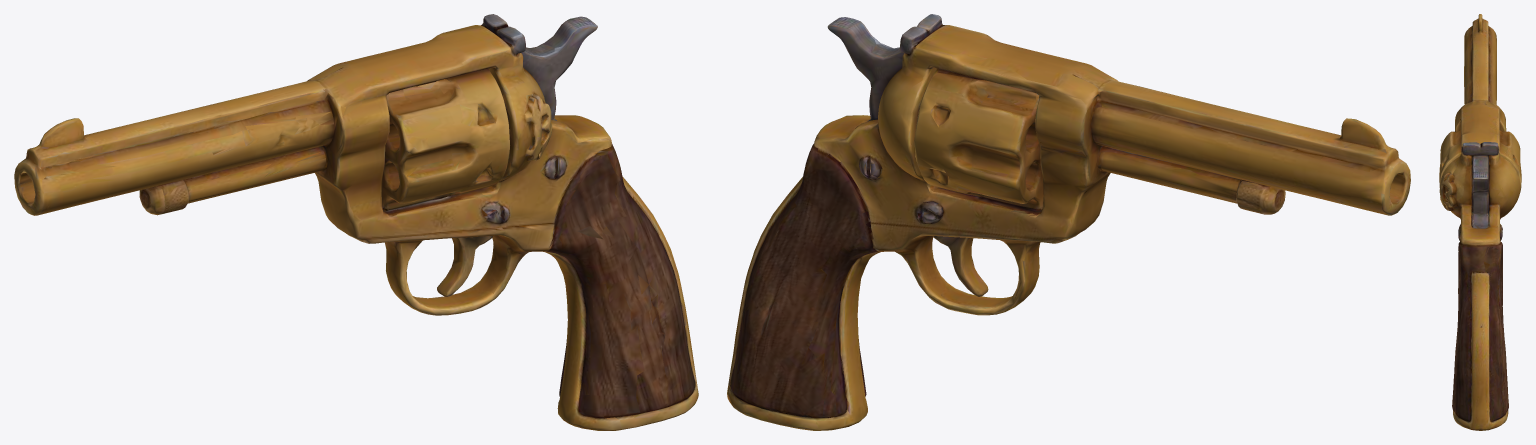
Rendered from gold_remington.glb.
3 views of the same model, side by side, from view 1: azimuth 30°, elevation 25°; view 2: azimuth 150°, elevation 25°; view 3: azimuth 270°, elevation 25° (orthographic). The views are drawn at different scales.
Parts seen in each view (by area): view 1: tripo_node_7fbf99c4; view 2: tripo_node_7fbf99c4; view 3: tripo_node_7fbf99c4.
Boxes of the visible parts, bbox=[...] form: tripo_node_7fbf99c4: bbox=[14, 14, 698, 430]; tripo_node_7fbf99c4: bbox=[727, 14, 1410, 430]; tripo_node_7fbf99c4: bbox=[1439, 14, 1521, 430].
Size of the model in its own units: 0.3279 by 0.2 by 0.0613.
Materials: 1 (1 with a texture image).
